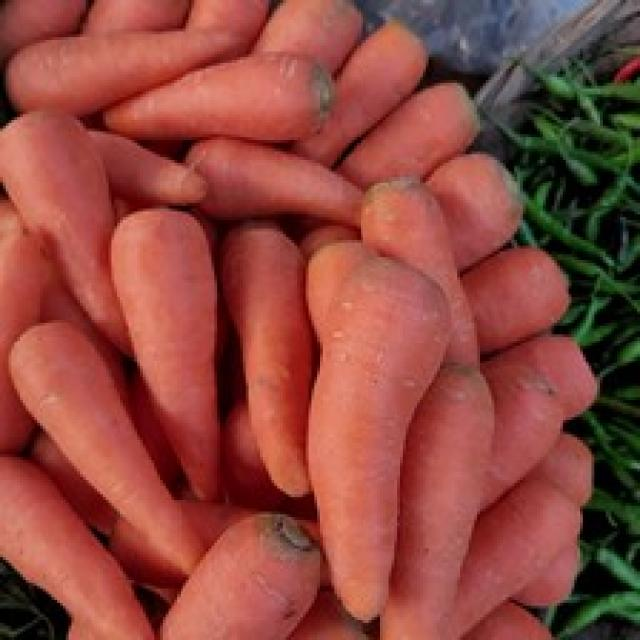Fresh_Carrot: (301, 257, 466, 625), (10, 325, 208, 585), (0, 103, 141, 369), (110, 210, 216, 500), (0, 464, 164, 640), (186, 138, 373, 269), (224, 229, 315, 490), (378, 171, 486, 380), (162, 512, 325, 640), (93, 58, 333, 132)
